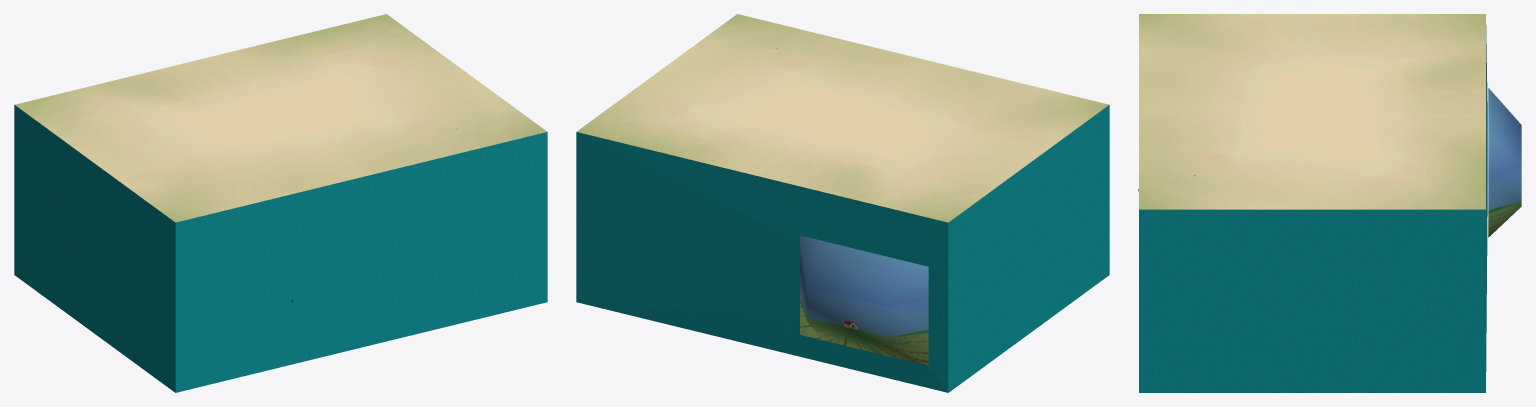
The model's file is take that cum.fbx.
3 renders of one model, left to right at view 1: azimuth 30°, elevation 25°; view 2: azimuth 150°, elevation 25°; view 3: azimuth 270°, elevation 25°, orthographic. The views are drawn at different scales.
Visible parts, largest first — view 1: стены, потолок; view 2: стены, потолок, qwqwx ccxc; view 3: потолок, стены, qwqwx ccxc.
Part boxes in pixels (x1,y1,x2,y2): стены: (14,105,547,392); потолок: (15,14,546,222); стены: (576,105,1109,392); потолок: (577,14,1108,222); qwqwx ccxc: (800,235,928,365); потолок: (1139,14,1485,209); стены: (1139,25,1487,392); qwqwx ccxc: (1488,88,1521,237).
Size of the model in its own units: 800 by 355 by 663.
